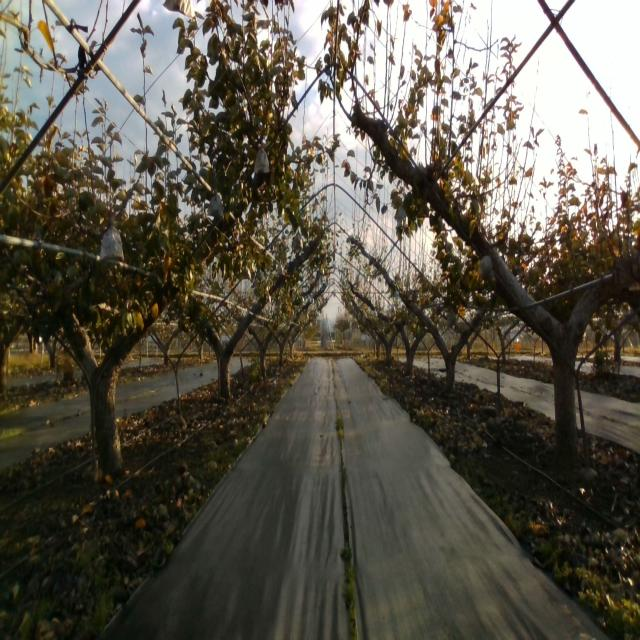pearbags: (100, 217, 124, 262), (208, 190, 225, 222), (254, 144, 270, 175), (478, 255, 495, 281), (396, 205, 409, 231), (447, 308, 457, 330)
